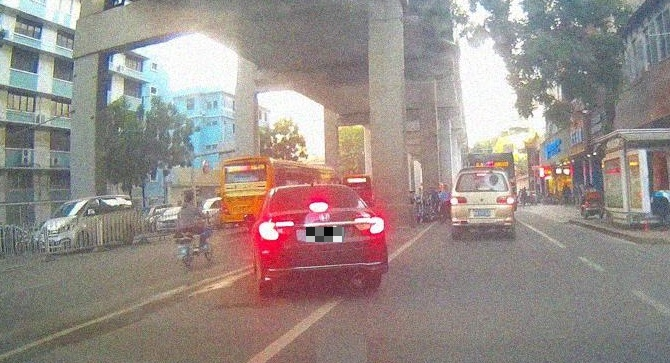L_light: (258, 221, 294, 241), (451, 197, 467, 205)
R_light: (355, 216, 385, 235), (496, 195, 513, 204)
T_light: (309, 202, 328, 213), (476, 173, 486, 177)
day-brake: (450, 166, 514, 240)
day-left: (257, 184, 389, 296)
plate_1: (306, 227, 344, 242)
